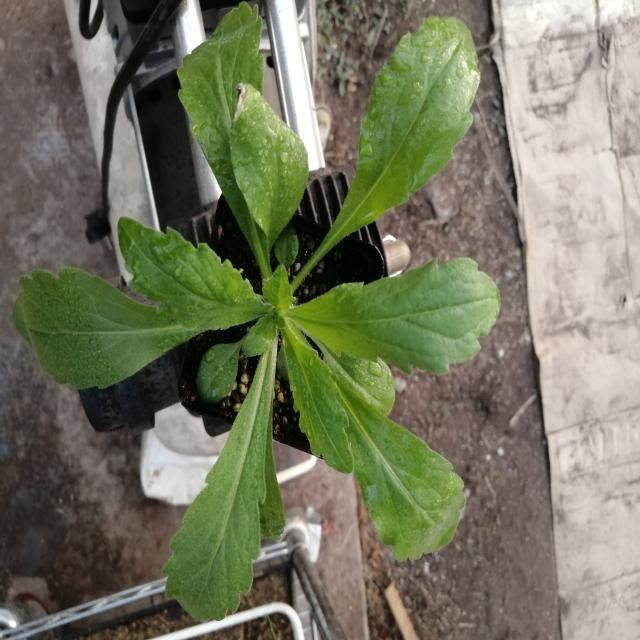horseweed: (66, 48, 507, 560)
